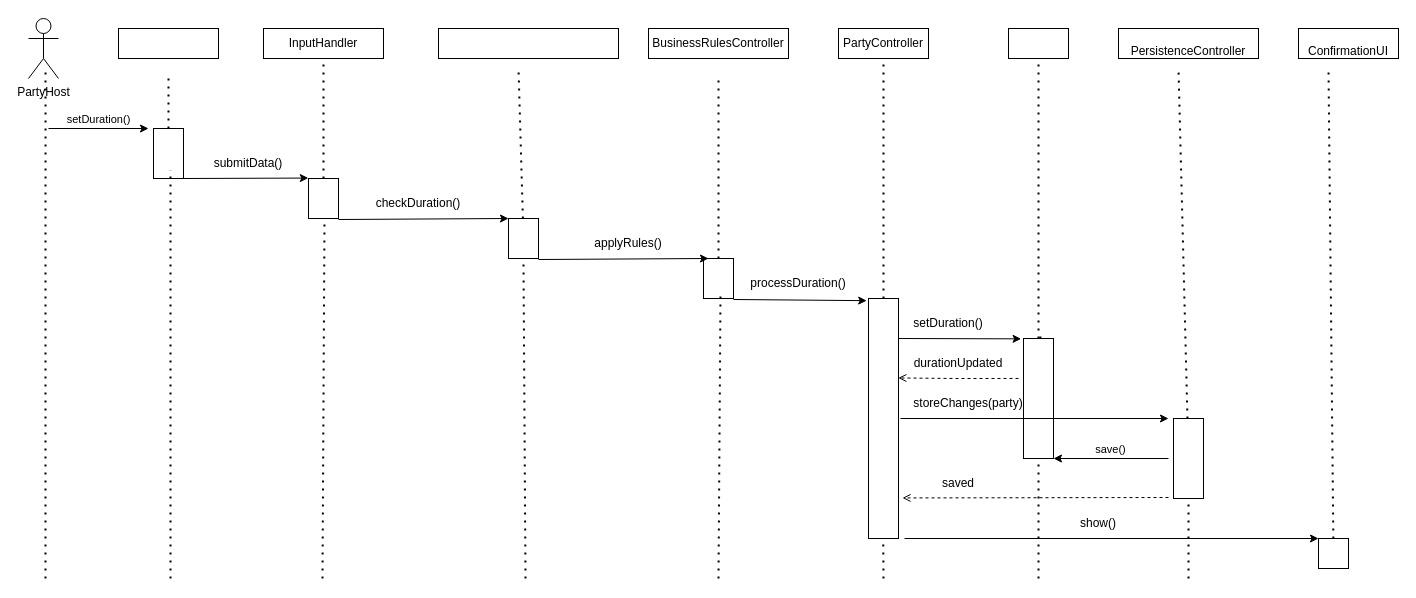
Some shapes in this 1416 by 598 pixel diagram are drawn without their labels. The centre of each missing label's shape, as x and y in pixels:
"Duration ValidationController" belongs at [528,43].
"DurationInputUI" belongs at [168,43].
"Party" belongs at [1038,43].
